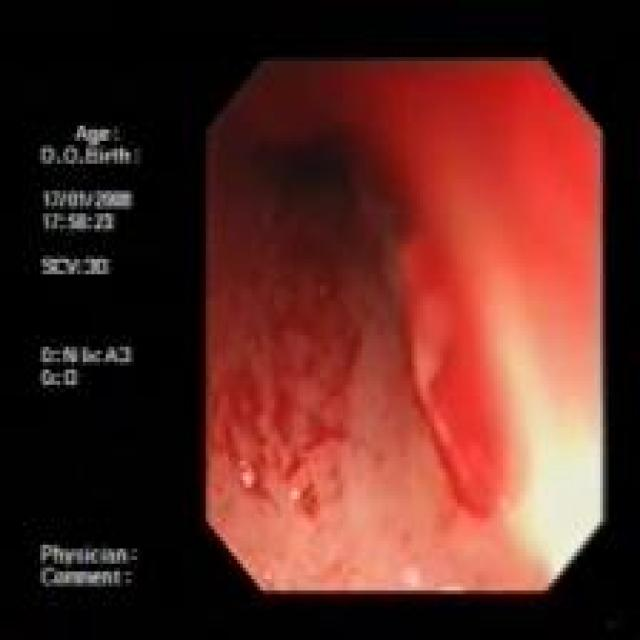blood: (222, 238, 361, 520)
bubbles: (208, 61, 601, 344)
color misalignment: (38, 112, 146, 594)
contrast: (208, 60, 385, 294)
saturation: (440, 229, 602, 576)
